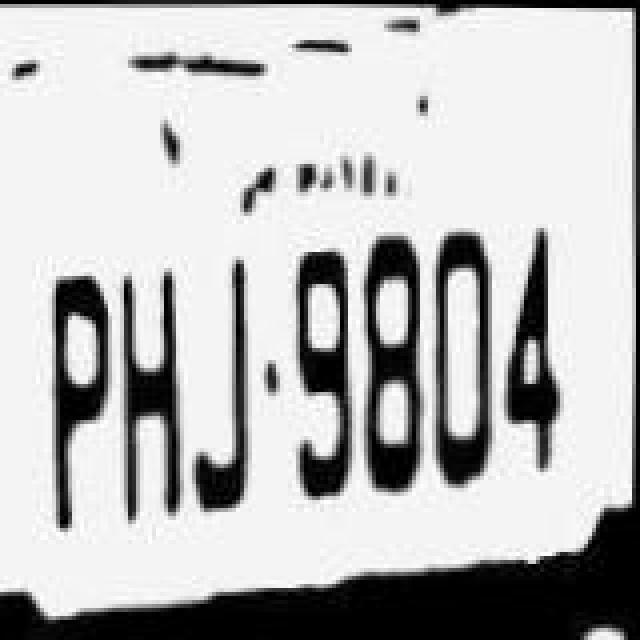4: (490, 210, 574, 474)
8: (352, 230, 432, 502)
9: (278, 244, 358, 524)
H: (108, 276, 192, 548)
J: (182, 276, 262, 540)
O: (420, 218, 500, 494)
P: (30, 278, 118, 546)
